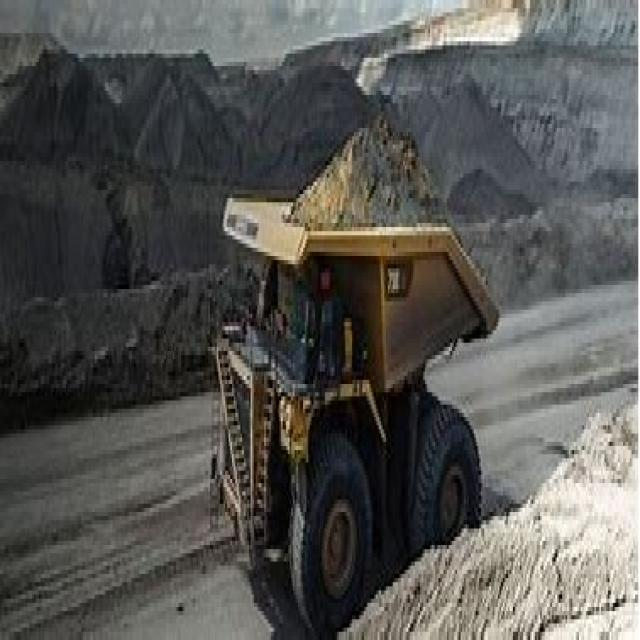dump_truck: (220, 128, 525, 615)
